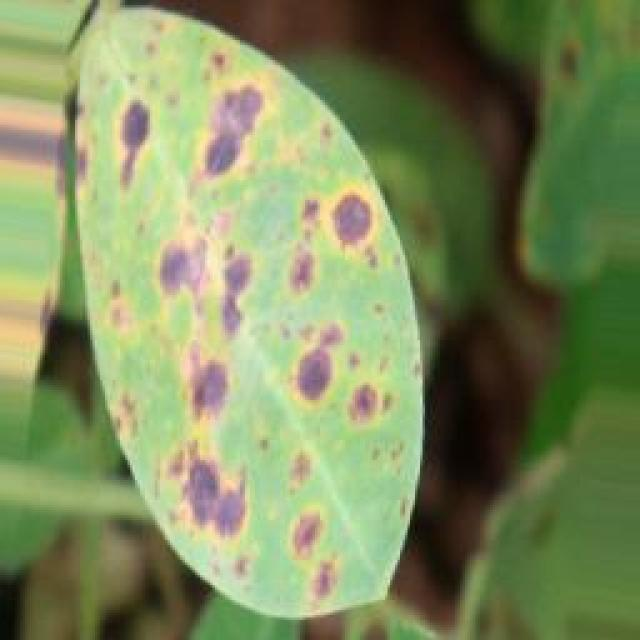Yellowish: (0, 0, 435, 602)
